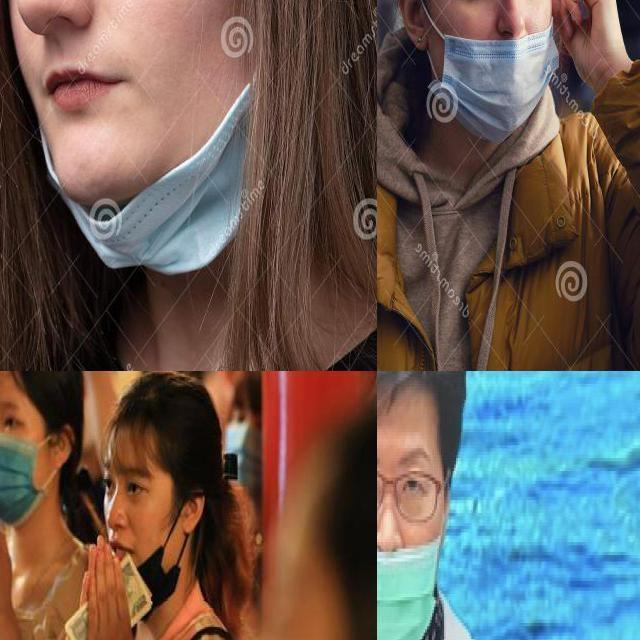hairnet: (7, 0, 231, 275), (441, 0, 555, 132), (377, 439, 433, 639), (104, 461, 167, 589)
no_apron: (558, 0, 634, 101), (80, 537, 136, 640)
no_gloves: (101, 375, 233, 488), (371, 371, 468, 447), (0, 370, 84, 449)
